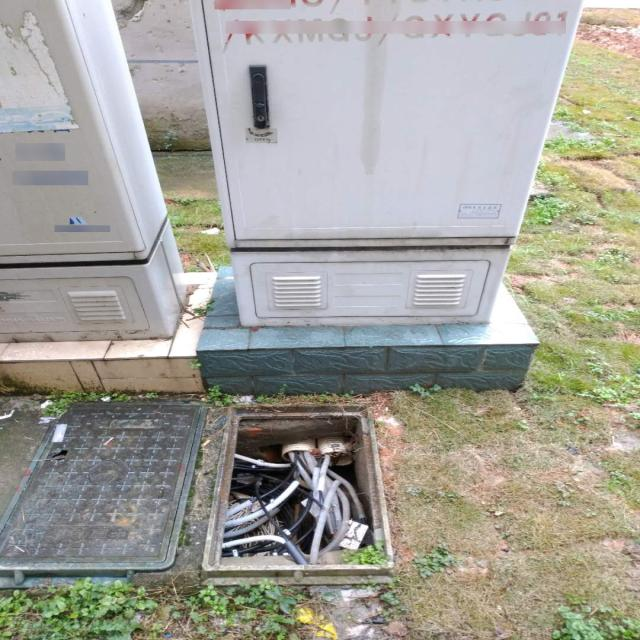Good: (4, 400, 203, 586)
Uncovered: (200, 412, 398, 586)
